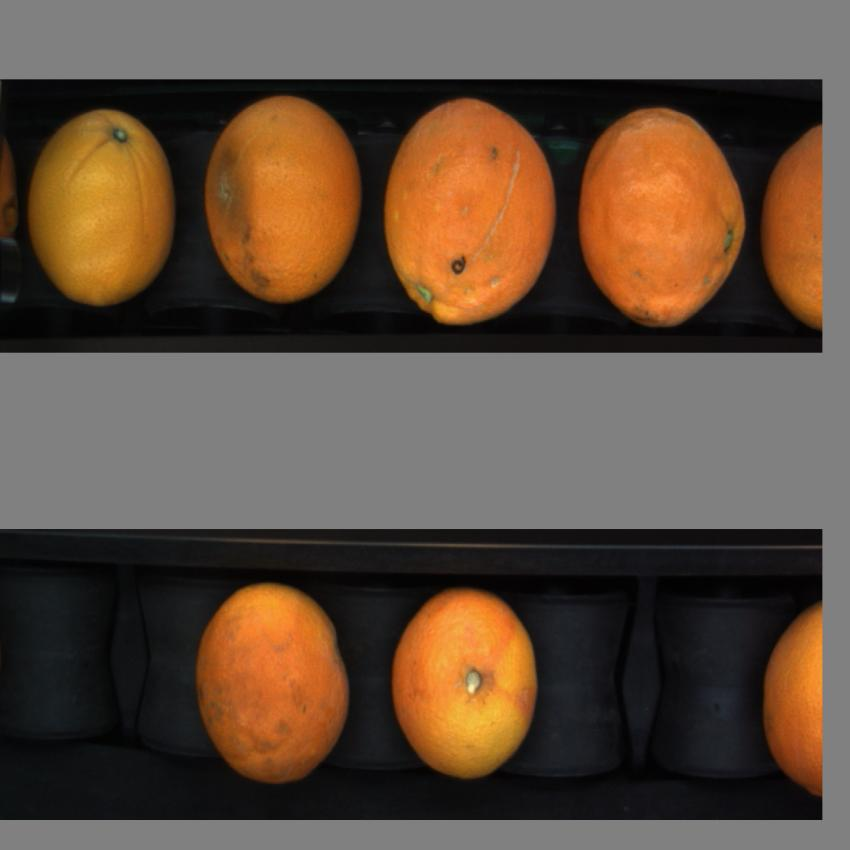Buen estado: (378, 97, 571, 336), (575, 101, 751, 336), (182, 571, 356, 796), (382, 573, 558, 785), (19, 107, 180, 310), (760, 107, 824, 344), (756, 596, 820, 812)
Mal estado: (200, 90, 373, 312)
